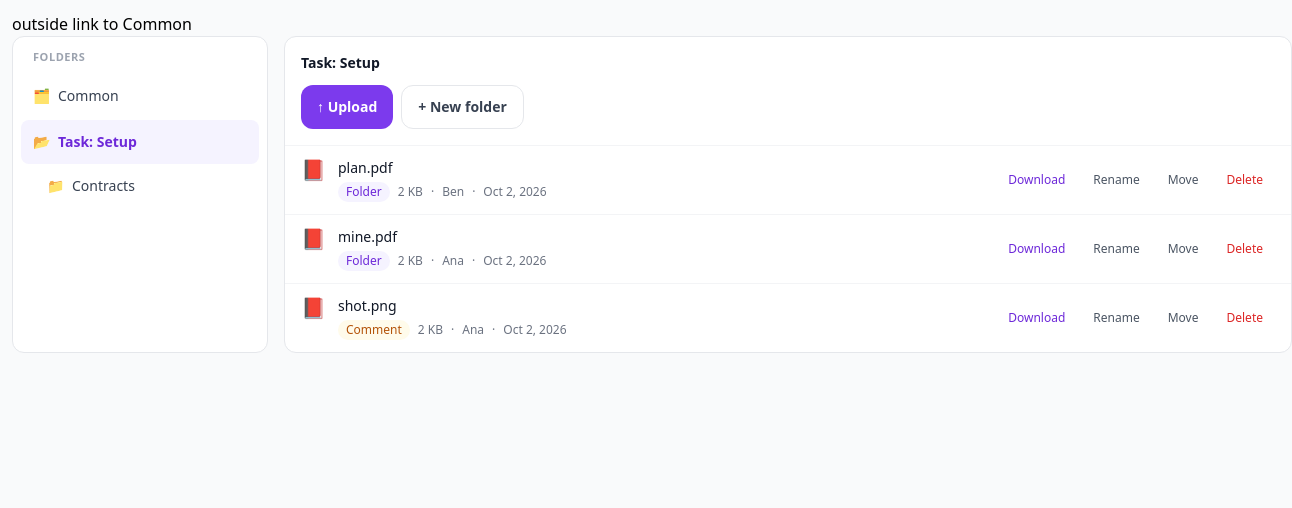
ProjectFilesTab › closes the folder form and clears its message when the view changes from outside
Expected: the text "plan.pdf" is shown, [338,158,392,177]
Click the button "+ New folder".
click(463, 107)  # box [401,85,524,129]
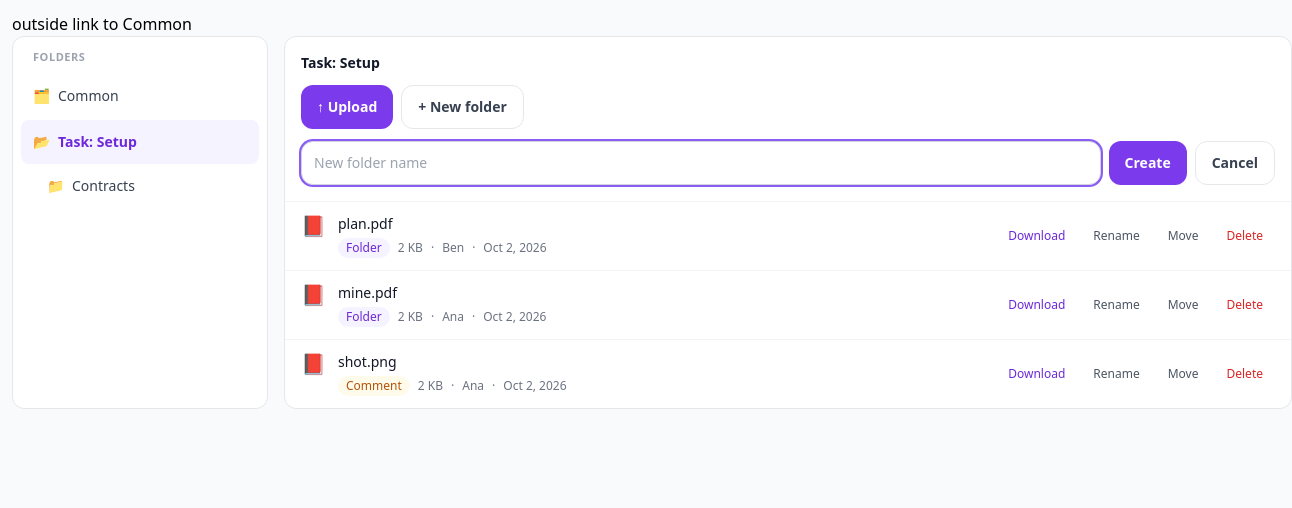
Type "Invoices" into the field labelled "folder name".
click(701, 163); type("Invoices")  # box [301,141,1101,185]
Then press Enter
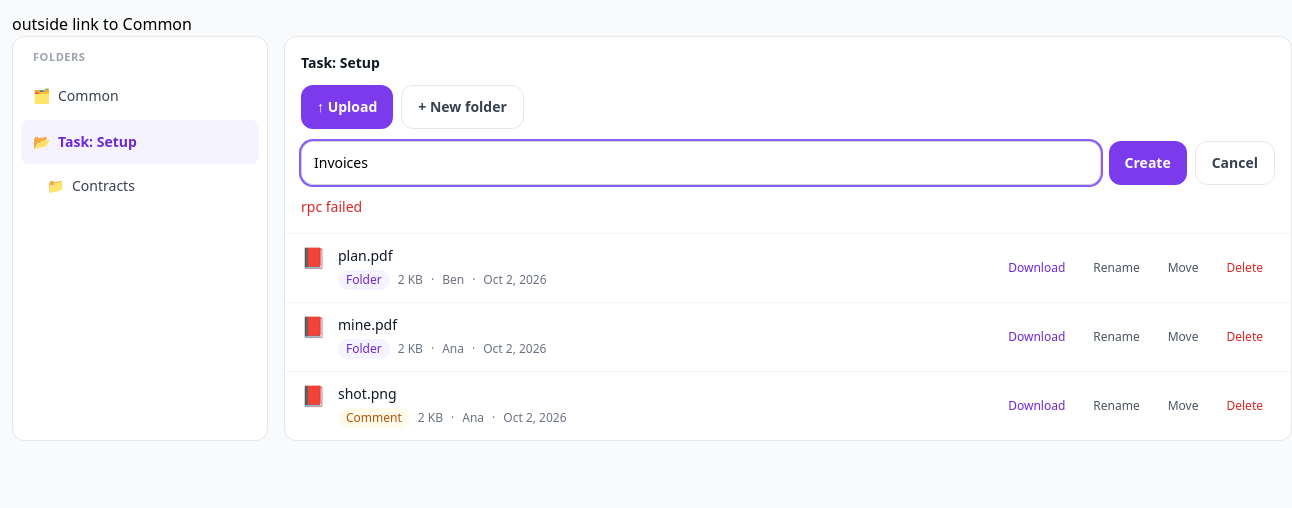
Result: the text "rpc failed" is shown at [301,197,362,216]
Click the link "outside link to Common".
click(102, 24)  # box [12,13,192,35]
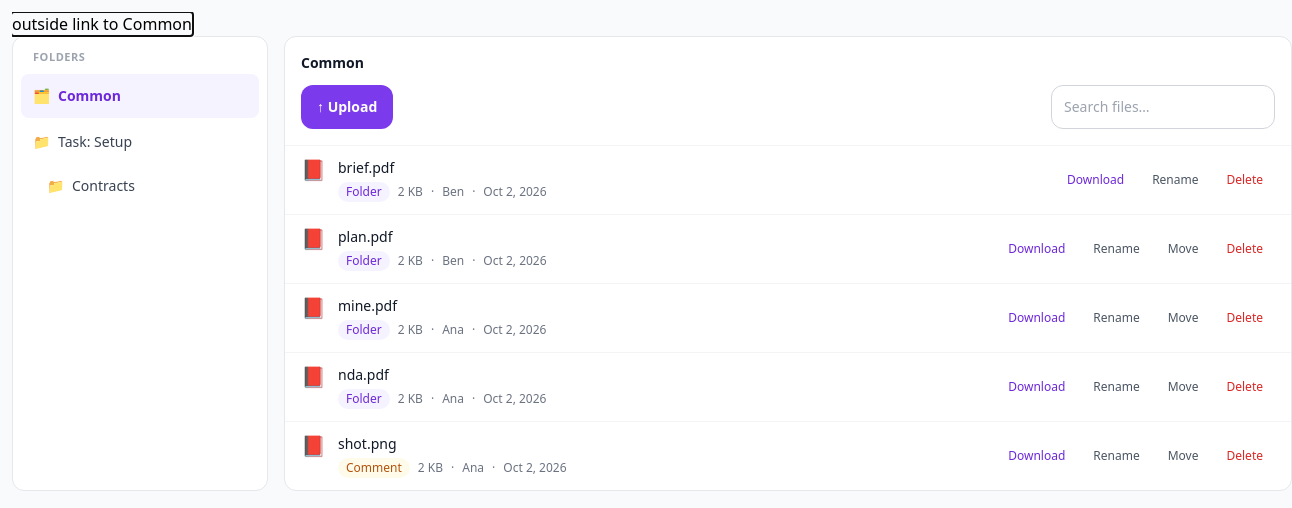
Expected: the field labelled "Folder name" is not shown
Result: the text "brief.pdf" is shown at [338,158,394,177]
Result: the text "rpc failed" is gone
